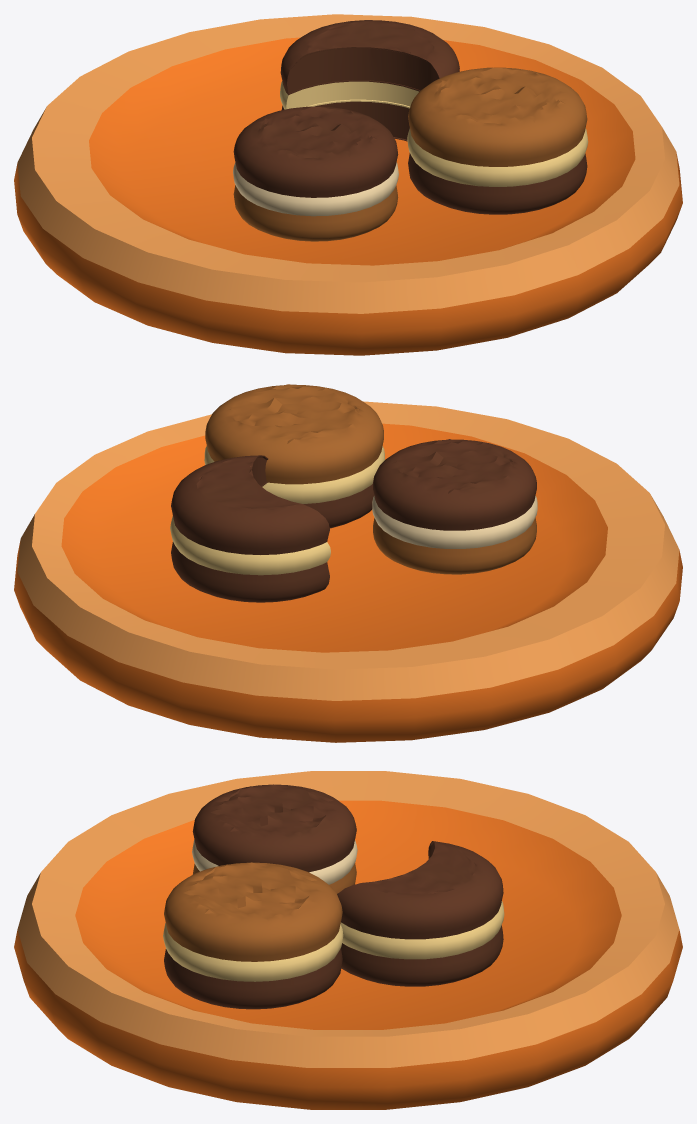
File: Dora Cakes.fbx
The picture shows the model from 3 angles, top to bottom: view 1: azimuth 30°, elevation 25°; view 2: azimuth 150°, elevation 25°; view 3: azimuth 270°, elevation 25°; orthographic projection.
Visible parts, largest first — view 1: Circle.034, Circle.041, Circle.042, Circle.044, Circle.039, Circle.037, Circle.045, Circle.040, Circle.043, Circle.036, Circle.035, Circle.038; view 2: Circle.034, Circle.041, Circle.042, Circle.044, Circle.039, Circle.037, Circle.038, Circle.040, Circle.035, Circle.036, Circle.043, Circle.045; view 3: Circle.034, Circle.041, Circle.042, Circle.044, Circle.039, Circle.037, Circle.045, Circle.038, Circle.043, Circle.035, Circle.036.
Part boxes in pixels (x1,y1,x2,y2): Circle.034: (17,14,679,313); Circle.041: (89,37,635,265); Circle.042: (14,152,682,355); Circle.044: (408,67,587,166); Circle.039: (233,106,398,197); Circle.037: (280,20,459,95); Circle.045: (408,153,587,214); Circle.040: (233,185,398,241); Circle.043: (407,128,588,186); Circle.036: (233,162,398,216); Circle.035: (280,81,418,109); Circle.038: (281,101,409,141); Circle.034: (17,401,679,700); Circle.041: (61,423,607,652); Circle.042: (14,540,682,742); Circle.044: (205,384,383,484); Circle.039: (373,439,536,530); Circle.037: (171,455,329,554); Circle.038: (171,542,329,602); Circle.040: (373,517,536,574); Circle.035: (170,483,330,575); Circle.036: (372,496,537,548); Circle.043: (204,446,384,503); Circle.045: (303,484,374,528); Circle.034: (17,771,679,1067); Circle.041: (75,800,621,1029); Circle.042: (14,929,682,1109); Circle.044: (164,862,342,961); Circle.039: (192,784,356,872); Circle.037: (337,841,503,939); Circle.045: (164,948,342,1009); Circle.038: (341,925,503,986); Circle.043: (163,923,343,981); Circle.035: (340,901,504,959); Circle.036: (192,840,357,884).
Bounding box in the file's own units: 2988 × 706 × 3010.
Materials: 1 (1 with a texture image).
